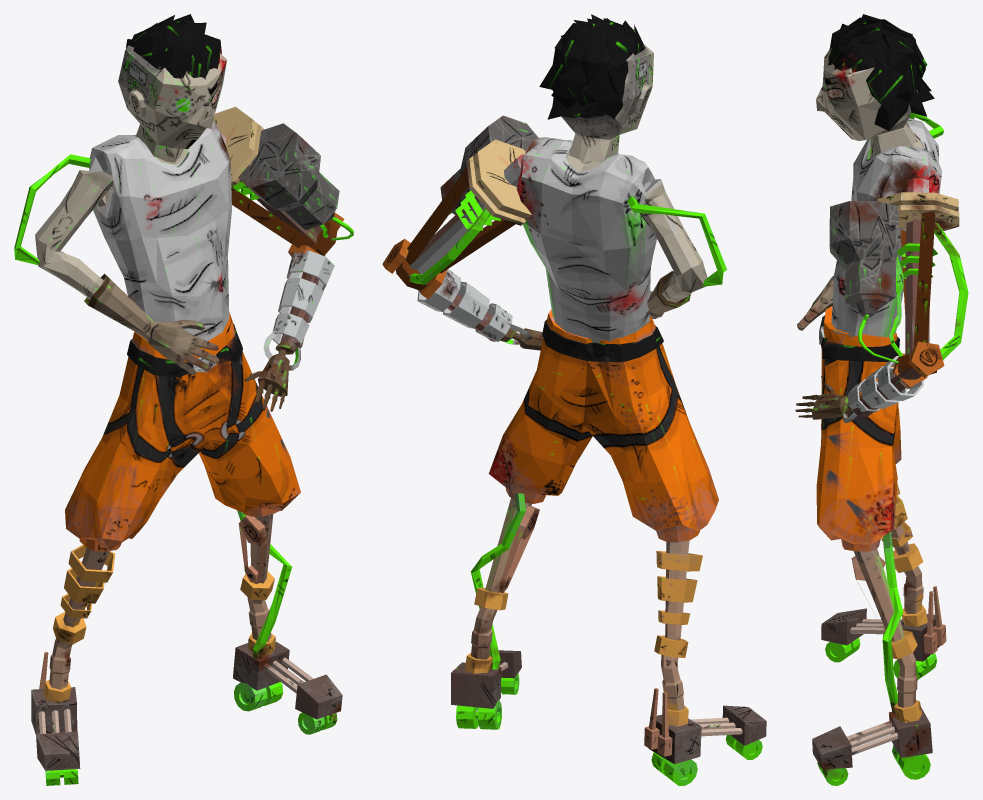
Rendered from CyborgFINALAnimation_000054.obj.
The picture shows the model from 3 angles, left to right: view 1: azimuth 30°, elevation 25°; view 2: azimuth 150°, elevation 25°; view 3: azimuth 270°, elevation 25°; orthographic projection. The views are drawn at different scales.
Parts seen in each view (by area): view 1: CyborgMesh_Cube.002; view 2: CyborgMesh_Cube.002; view 3: CyborgMesh_Cube.002.
Part boxes in pixels (x1,y1,x2,y2): CyborgMesh_Cube.002: (14,14,353,785); CyborgMesh_Cube.002: (382,14,766,785); CyborgMesh_Cube.002: (795,14,968,785).
Bounding box in the file's own units: 4.71 × 9.58 × 2.13.
